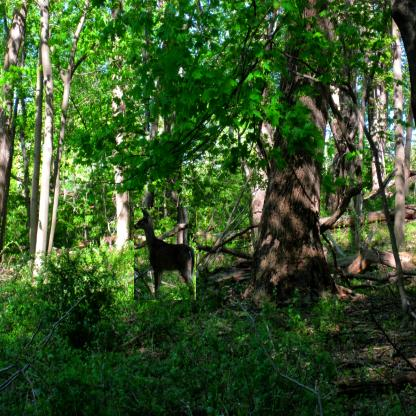Deer: (134, 207, 196, 300)
